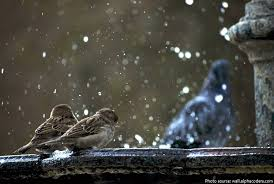hsparrow: (45, 108, 121, 155), (15, 103, 80, 152)
